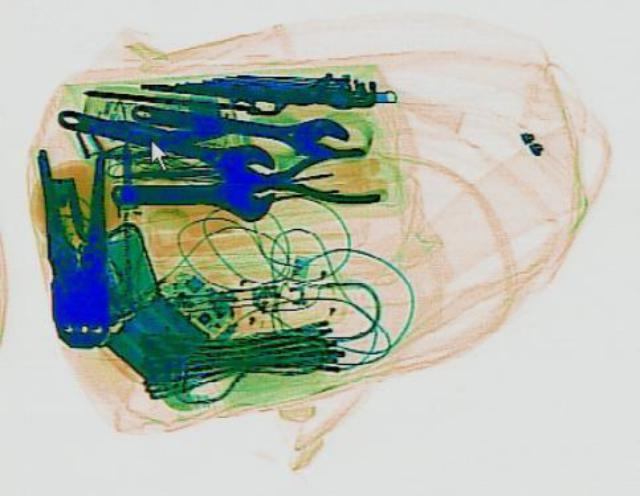Pliers: (28, 141, 122, 345), (244, 145, 378, 201)
Wrench: (46, 91, 280, 190), (125, 87, 351, 158), (105, 167, 271, 219)
